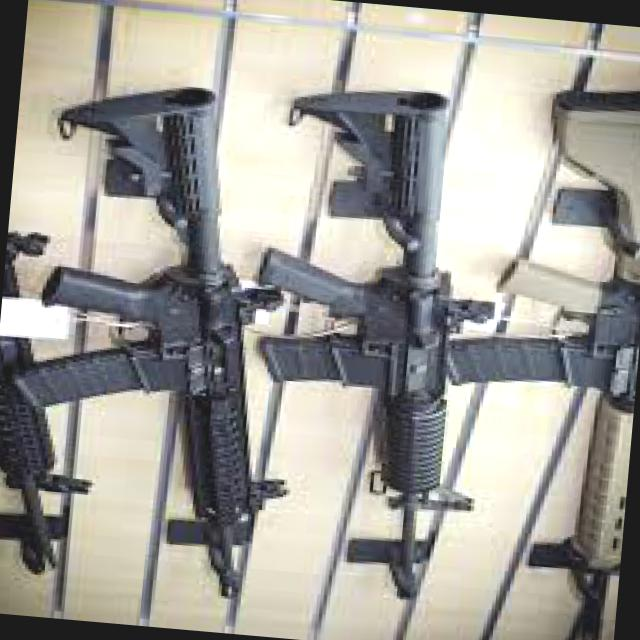long weapon: (49, 31, 288, 606), (270, 66, 507, 584)
